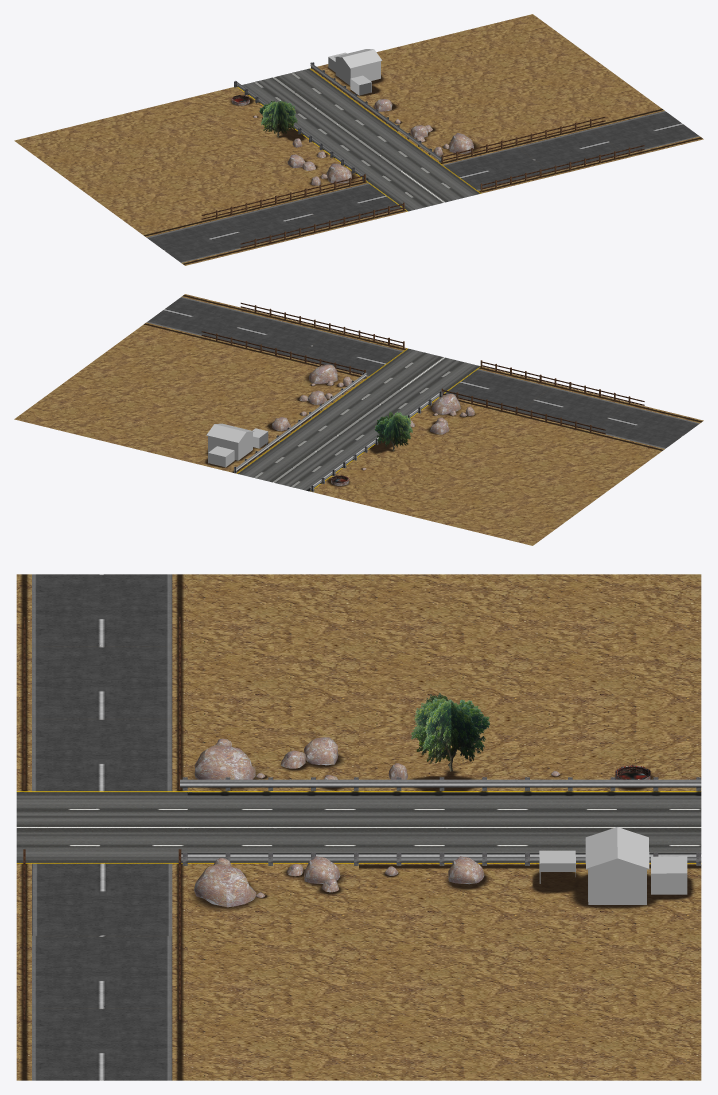
Rendered from end2.FBX.
3 renders of one model, top to bottom at view 1: azimuth 30°, elevation 25°; view 2: azimuth 150°, elevation 25°; view 3: azimuth 270°, elevation 25°, orthographic. The views are drawn at different scales.
Parts seen in each view (by area): view 1: end2, road005, boundry002, rock004, b3, relling005, tree007; view 2: end2, road005, boundry002, rock004, b3, relling005, tree007; view 3: end2, road005, boundry002, relling005, rock004, b3, tree007.
Part boxes in pixels (x1,y1,x2,y2): end2: [14, 14, 699, 263]; road005: [237, 68, 481, 211]; boundry002: [142, 108, 703, 265]; rock004: [253, 99, 473, 185]; b3: [328, 49, 382, 95]; relling005: [234, 62, 441, 181]; tree007: [259, 100, 297, 137]; end2: [14, 297, 699, 545]; road005: [237, 348, 480, 491]; boundry002: [143, 294, 703, 451]; rock004: [272, 364, 474, 470]; b3: [206, 423, 268, 467]; relling005: [234, 372, 442, 491]; tree007: [374, 411, 412, 450]; end2: [32, 574, 701, 1080]; road005: [16, 791, 701, 863]; boundry002: [16, 574, 187, 1080]; relling005: [180, 777, 701, 865]; rock004: [194, 737, 559, 907]; b3: [539, 827, 687, 904]; tree007: [410, 693, 489, 771].
Size of the model in its own units: 140 by 11.16 by 80.
